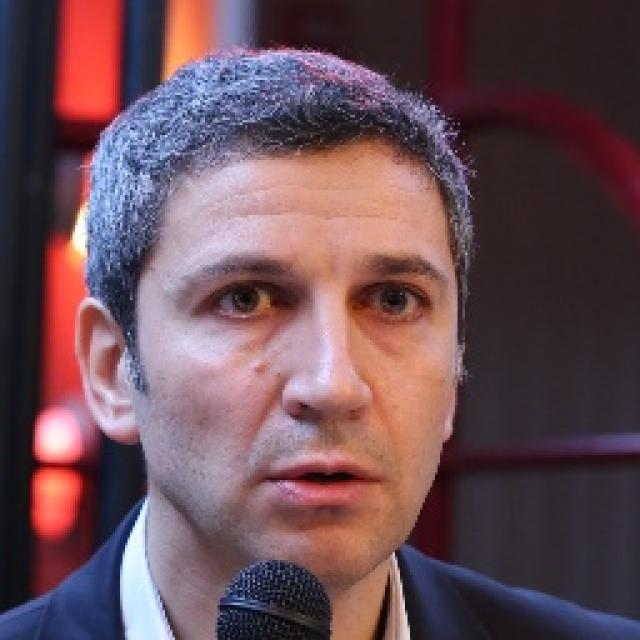earlobe: (75, 297, 142, 446)
